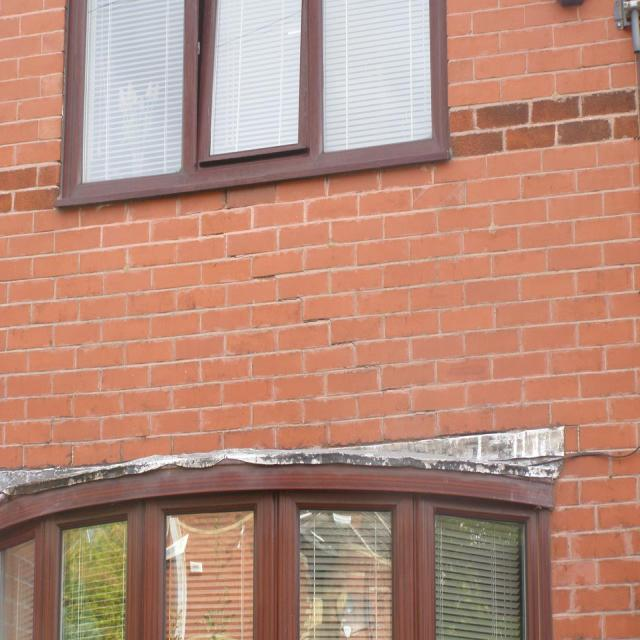crack: (186, 197, 477, 443)
crack_mold_damp_spalling_cor: (186, 197, 477, 443)
stepped_cracking_on_brick: (0, 0, 640, 462)
